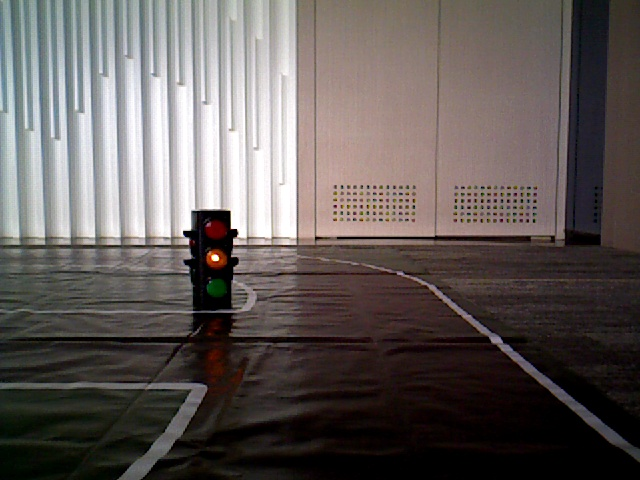yellow: (196, 214, 231, 302)
